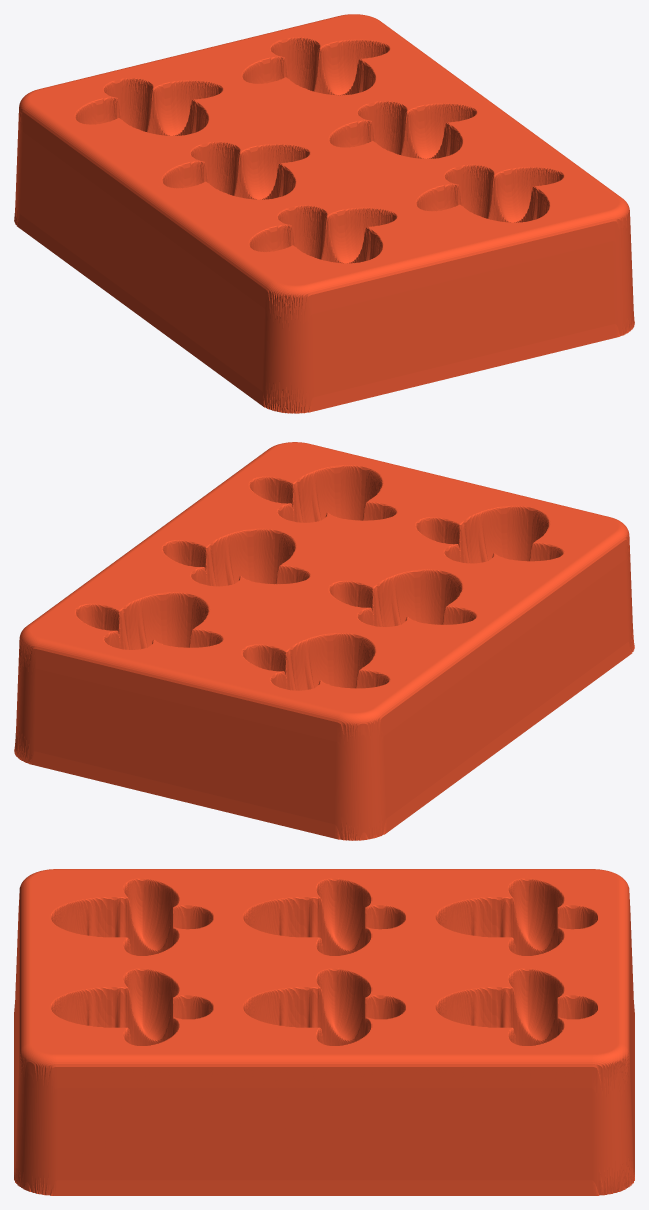
The model's file is mold.glb.
3 renders of one model, top to bottom at view 1: azimuth 30°, elevation 25°; view 2: azimuth 150°, elevation 25°; view 3: azimuth 270°, elevation 25°, orthographic. The views are drawn at different scales.
Parts seen in each view (by area): view 1: geometry_0; view 2: geometry_0; view 3: geometry_0.
Boxes of the visible parts, x1,y1,x2,y2 form: geometry_0: [14, 14, 634, 413]; geometry_0: [14, 442, 634, 840]; geometry_0: [14, 869, 634, 1195].
Bounding box in the file's own units: 0.0996 × 0.0314 × 0.1315.
